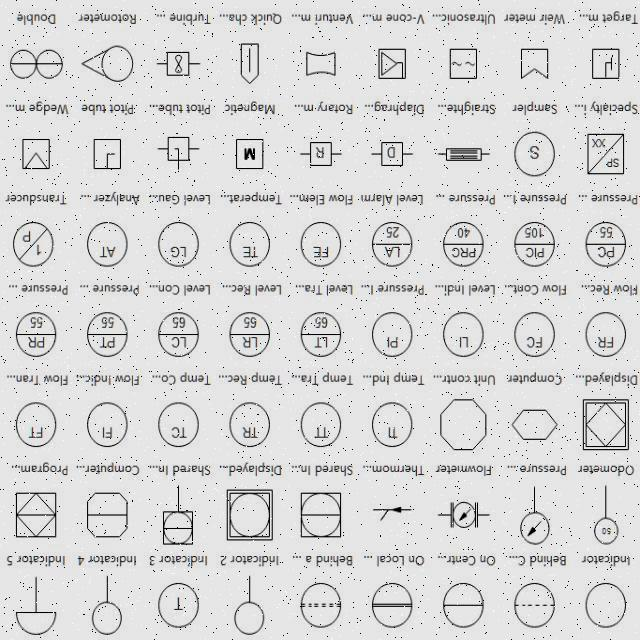Flowmeter: (438, 492, 492, 538)
Pressure Gauge: (516, 484, 562, 550)
Temp Ind: (366, 397, 414, 452)
